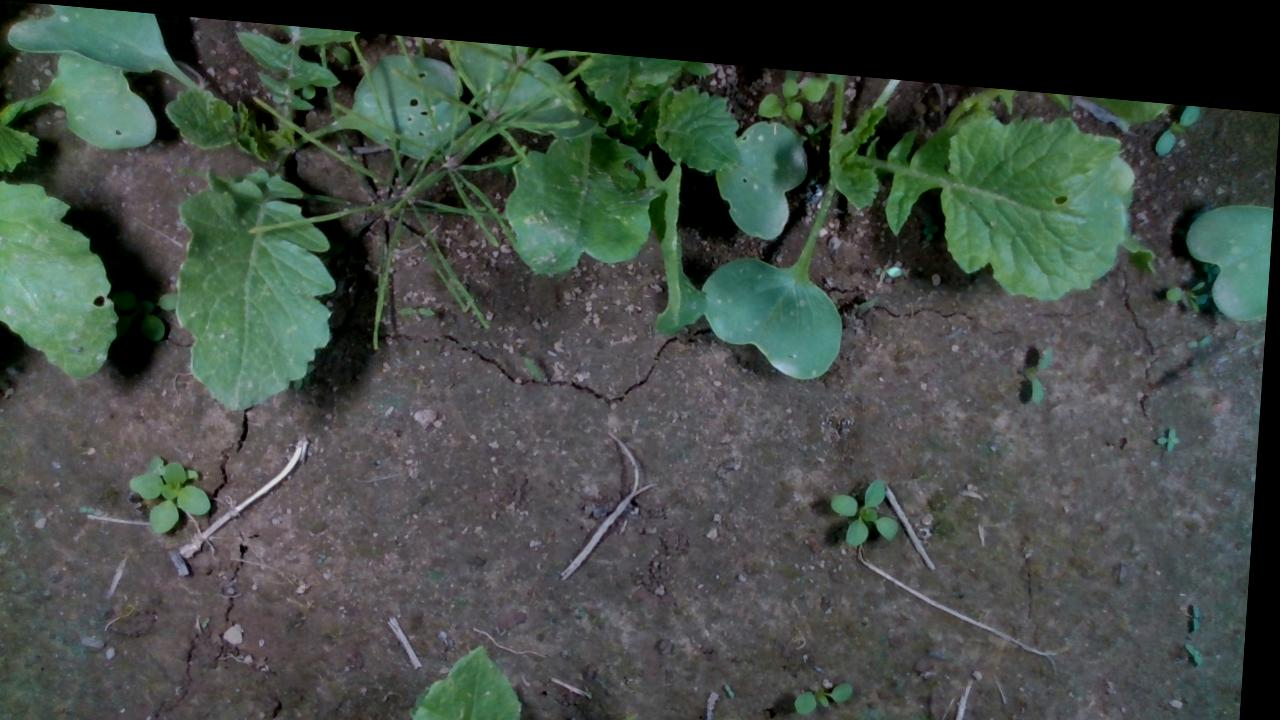weed: (799, 661, 864, 703)
